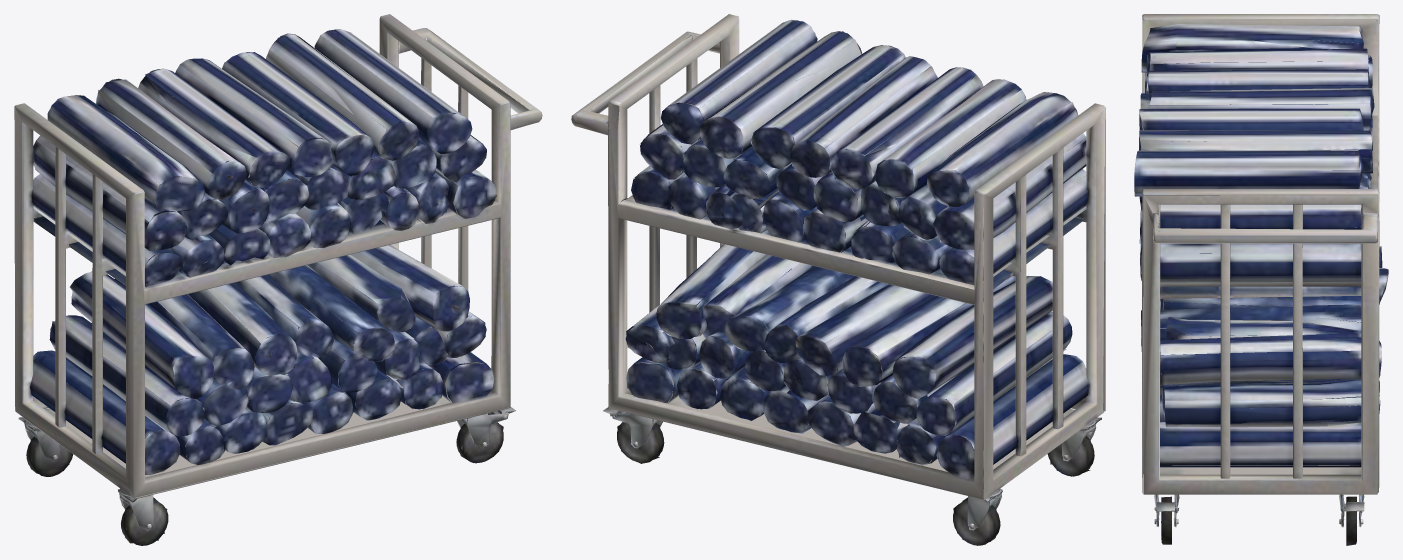
Rendered from towel-cart.glb.
The picture shows the model from 3 angles, left to right: view 1: azimuth 30°, elevation 25°; view 2: azimuth 150°, elevation 25°; view 3: azimuth 270°, elevation 25°; orthographic projection. The views are drawn at different scales.
Visible parts, largest first — view 1: tripo_node_b6915fbf-7a8f-4251-9c5d-b13954b21b26; view 2: tripo_node_b6915fbf-7a8f-4251-9c5d-b13954b21b26; view 3: tripo_node_b6915fbf-7a8f-4251-9c5d-b13954b21b26.
Boxes of the visible parts, x1,y1,x2,y2 form: tripo_node_b6915fbf-7a8f-4251-9c5d-b13954b21b26: [14, 14, 542, 545]; tripo_node_b6915fbf-7a8f-4251-9c5d-b13954b21b26: [571, 14, 1105, 545]; tripo_node_b6915fbf-7a8f-4251-9c5d-b13954b21b26: [1134, 14, 1388, 545].
Bounding box in the file's own units: 1.22 × 1.05 × 0.6616.
1 material, 1 textured.
